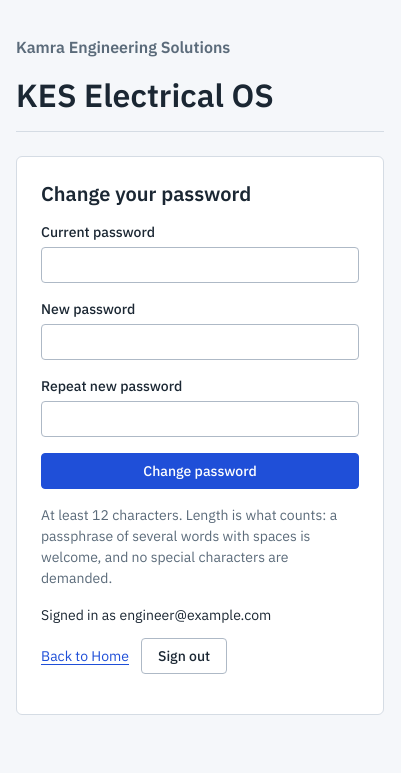
Test: ChangePasswordPage › refuses the first password /  /  before anything is sent
Type "the first password" into the password field labelled "Current password" at (200, 265), box [41,247,359,283]
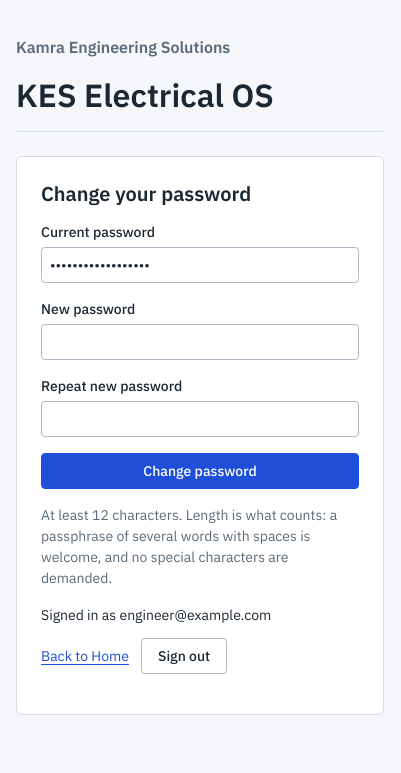
Click the button "Change password" at (200, 471), box [41,453,359,489]
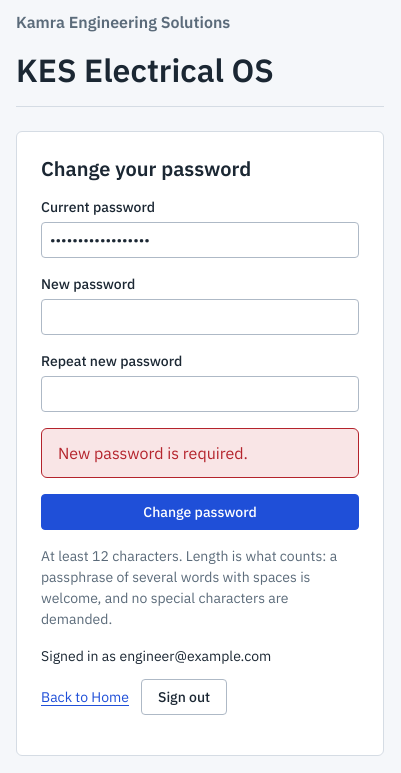
Check: the message reads "New password is required.", box [58,443,248,463]
